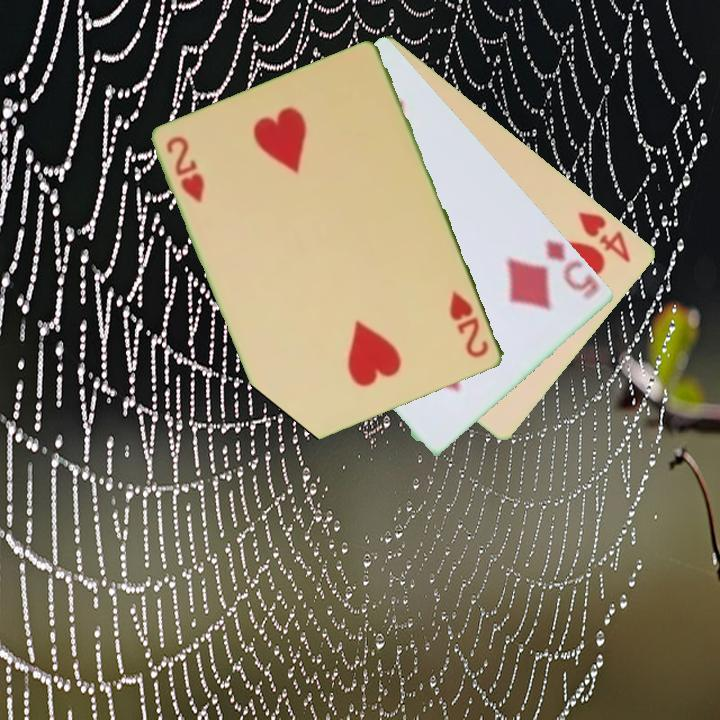2h: (446, 287, 493, 361), (163, 133, 208, 207)
4h: (574, 208, 635, 266)
5d: (543, 235, 603, 303)
